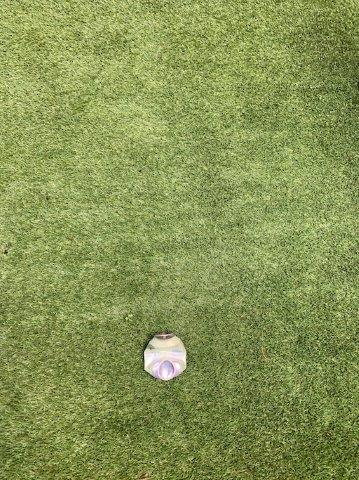kaleng: (143, 334, 186, 378)
